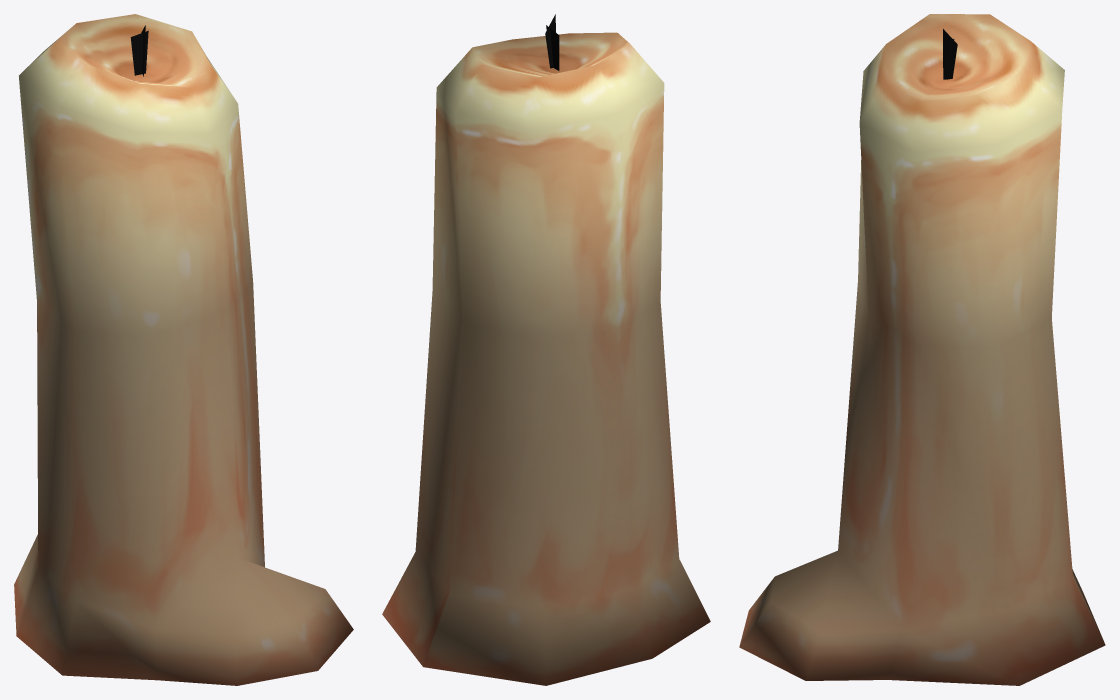
File: SM_PROP_candle_interior_01.fbx
The picture shows the model from 3 angles, left to right: view 1: azimuth 30°, elevation 25°; view 2: azimuth 150°, elevation 25°; view 3: azimuth 270°, elevation 25°; orthographic projection.
Parts seen in each view (by area): view 1: SM_PROP_candle_interior_01; view 2: SM_PROP_candle_interior_01; view 3: SM_PROP_candle_interior_01.
Part boxes in pixels (x1,y1,x2,y2): SM_PROP_candle_interior_01: [14, 14, 353, 685]; SM_PROP_candle_interior_01: [382, 14, 710, 685]; SM_PROP_candle_interior_01: [739, 14, 1105, 685].
Bounding box in the file's own units: 11.41 × 25.27 × 14.15.
